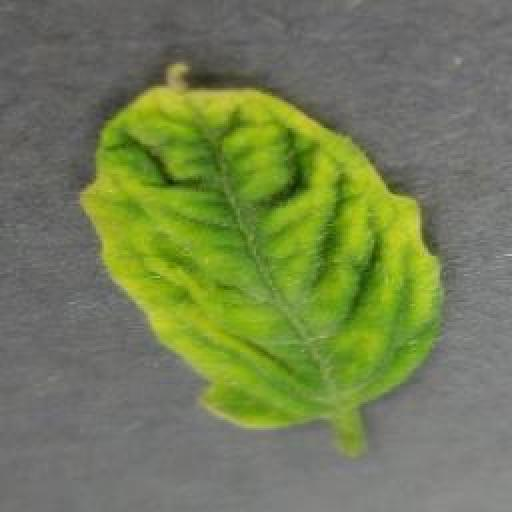Yellow Leaf Curl Virus: (78, 58, 445, 430)
